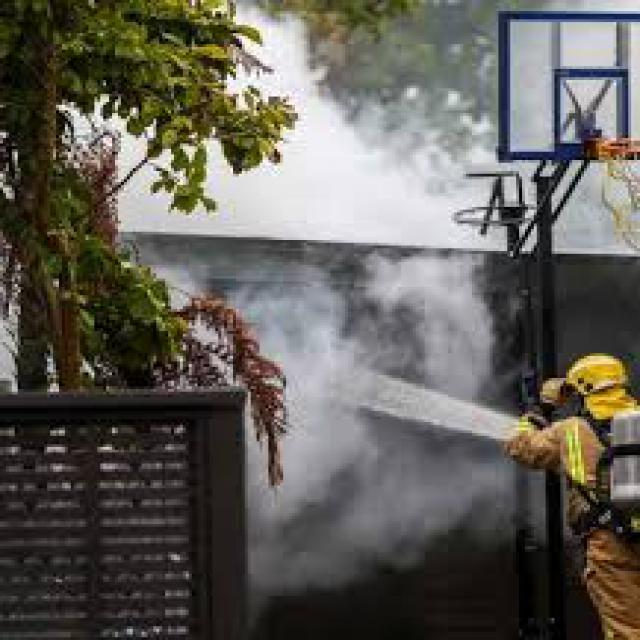smoke: (98, 17, 514, 245)
